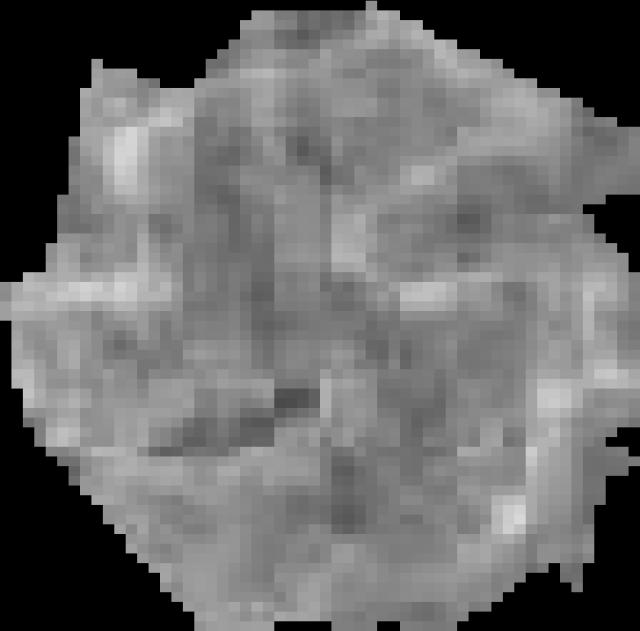tumor_good_chance: (0, 1, 640, 631)
